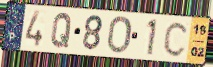1: (145, 18, 159, 57)
4: (24, 9, 45, 48)
8: (82, 14, 104, 52)
C: (162, 20, 190, 59)
O: (106, 15, 133, 55)
Q: (50, 11, 74, 49)
